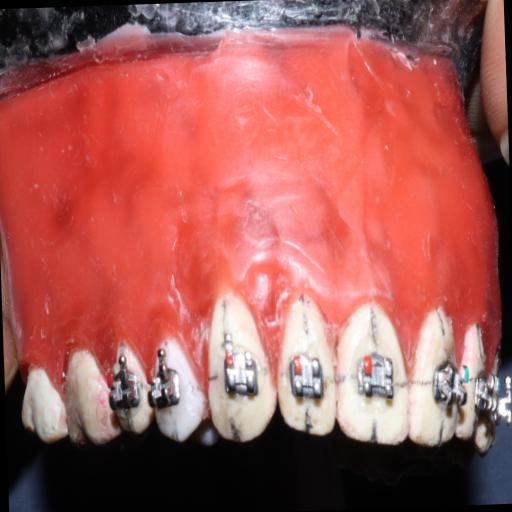incorrect_brace: (218, 336, 261, 398)
